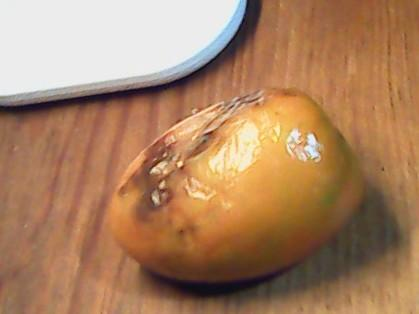defectuoso: (106, 85, 368, 287)
